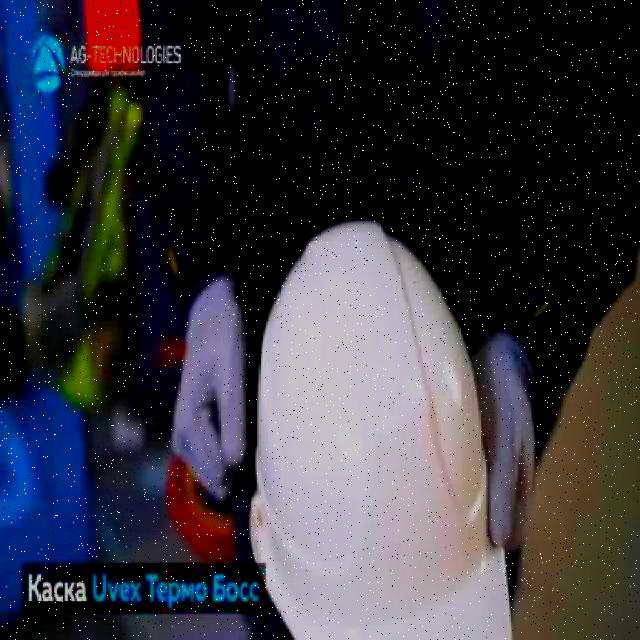Gloves: (170, 276, 250, 498), (470, 328, 535, 557)
Helmet: (246, 216, 514, 638)
